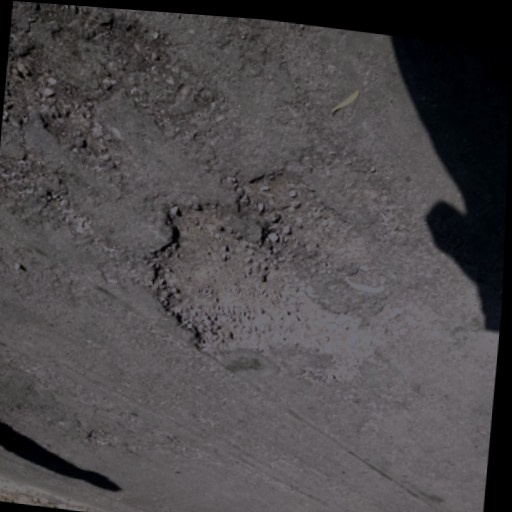pothole: (137, 152, 418, 393)
